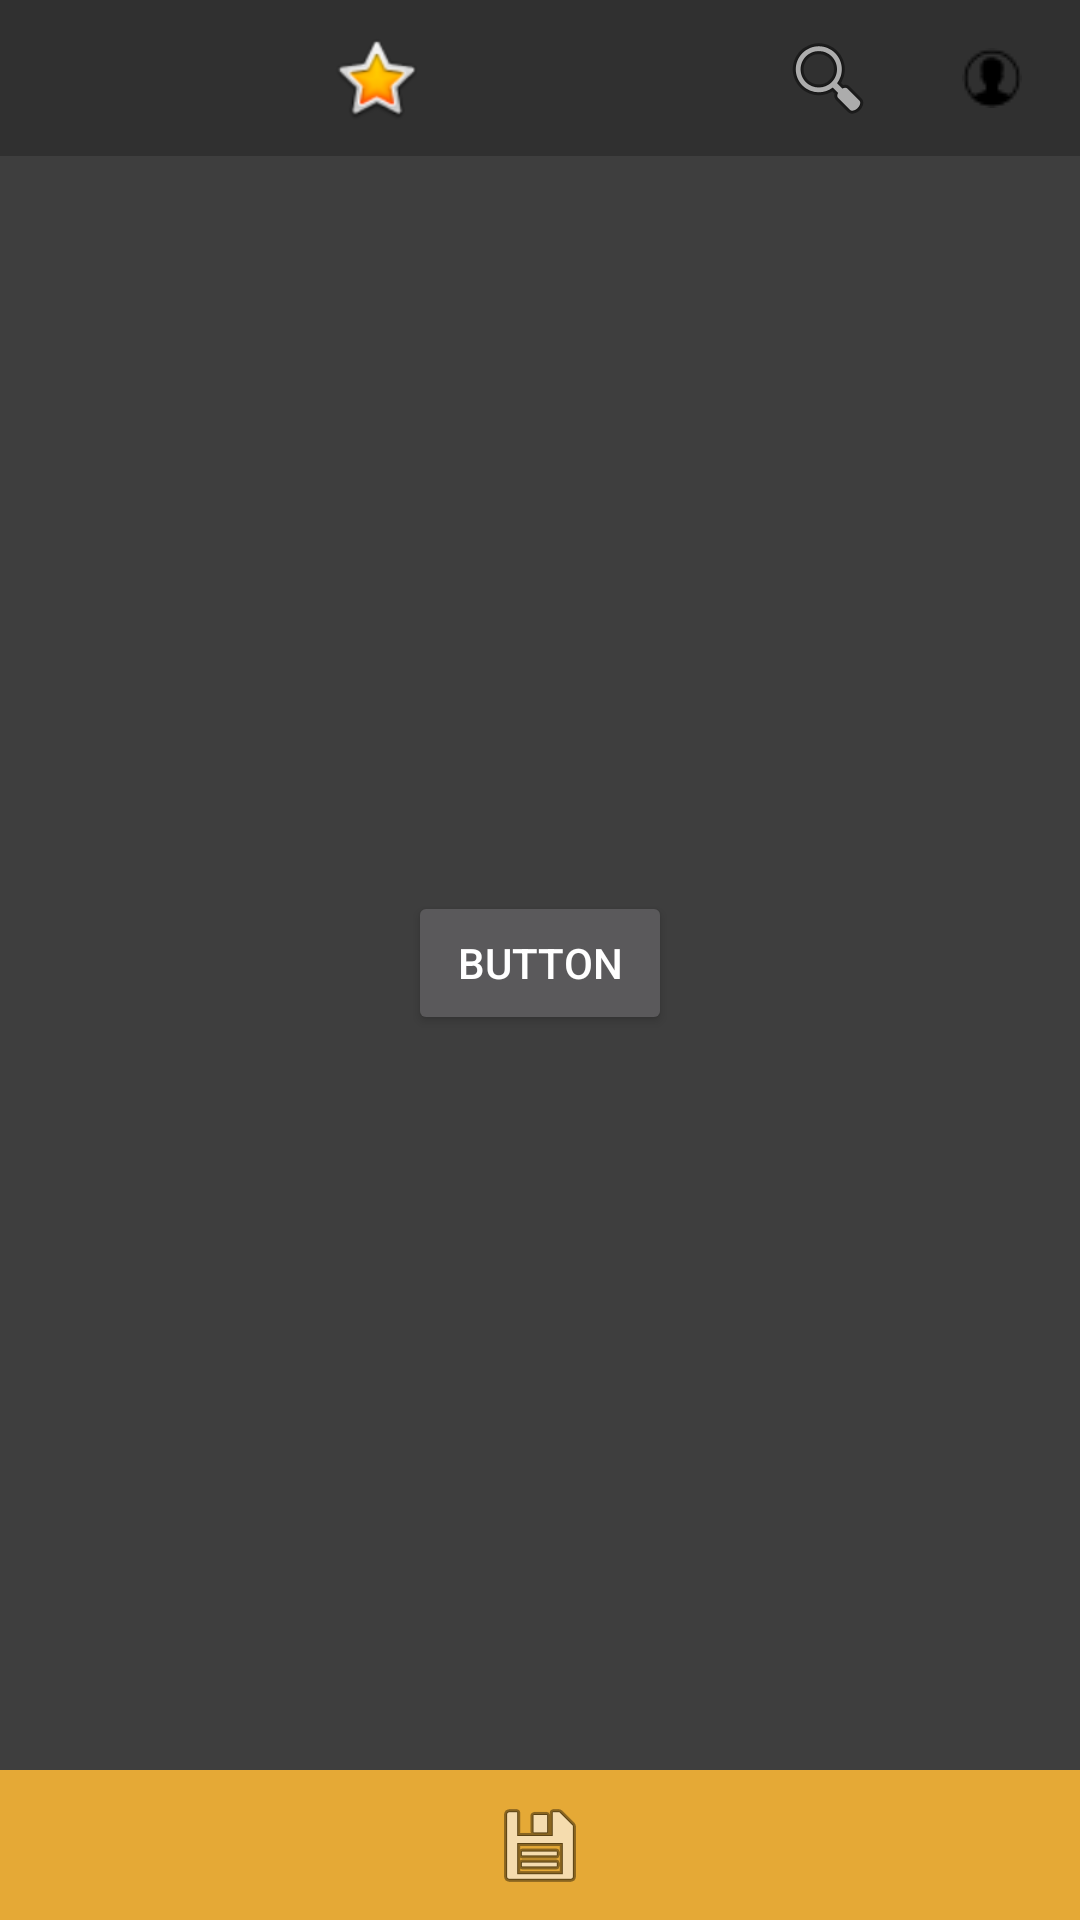

Icon click points for this 1080x1920 phone screenshot, format (x=x, y=y):
male user: (x=992, y=78)
save: (x=540, y=1845)
search: (x=828, y=78)
star on: (x=377, y=79)
